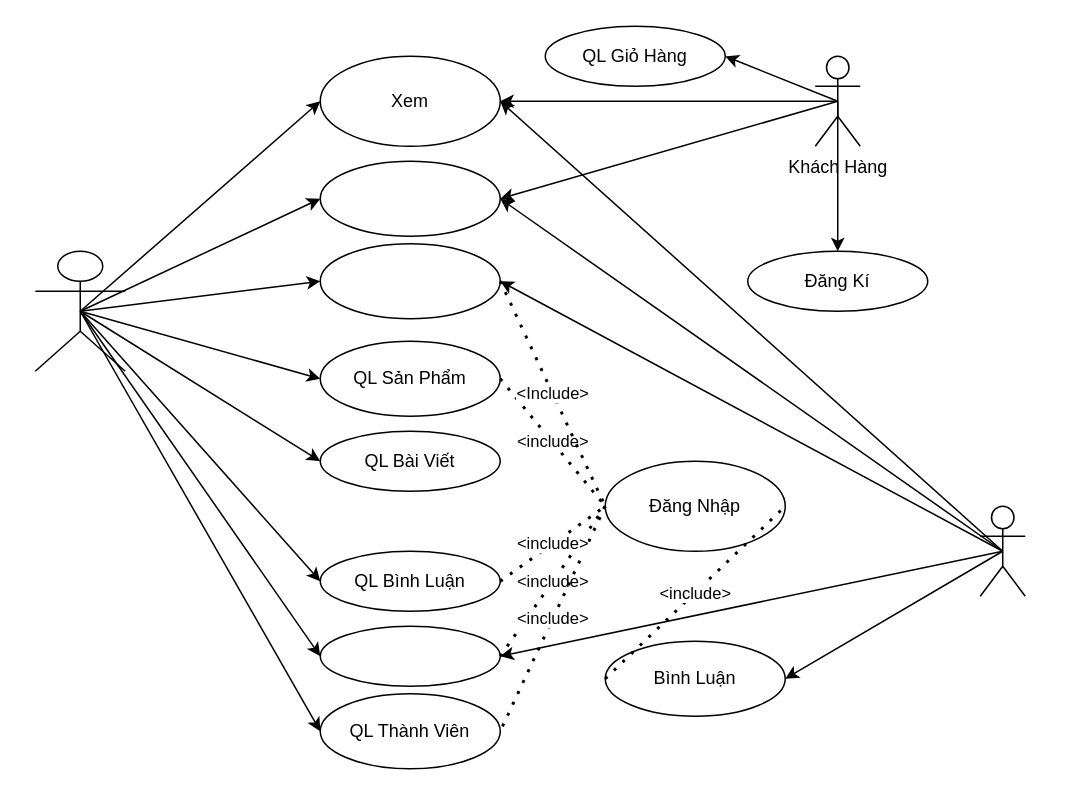
This 1074x795 diagram has some shape labels left out. The shapes that lost their labels are listed below. From the top down, each one's box as (x1, y1, x2, y2) in pixels, then its label:
(319, 160, 500, 236): Tìm Kiếm
(319, 242, 500, 319): QL Đơn Hàng
(34, 250, 125, 371): Quản Trị Viên
(979, 505, 1025, 596): Thành Viên
(319, 625, 500, 686): Đăng Xuất
